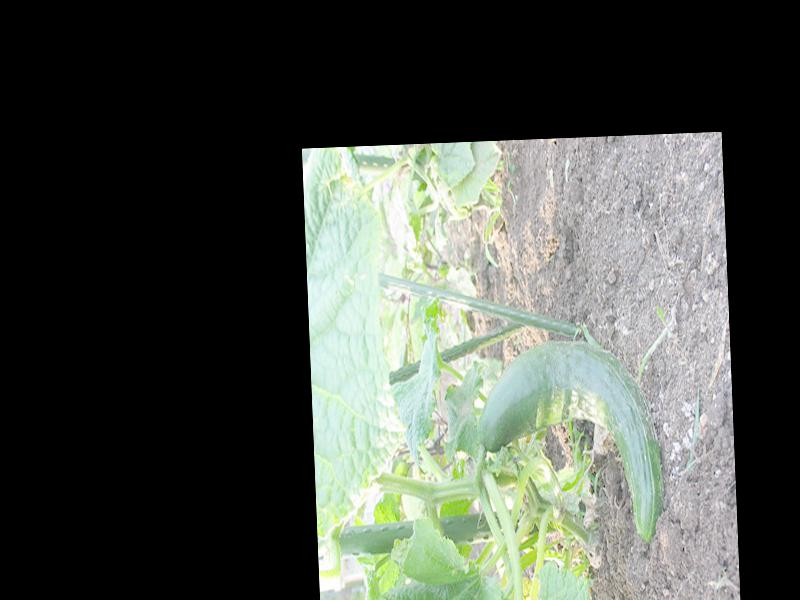Cucumber: (474, 335, 666, 550)
